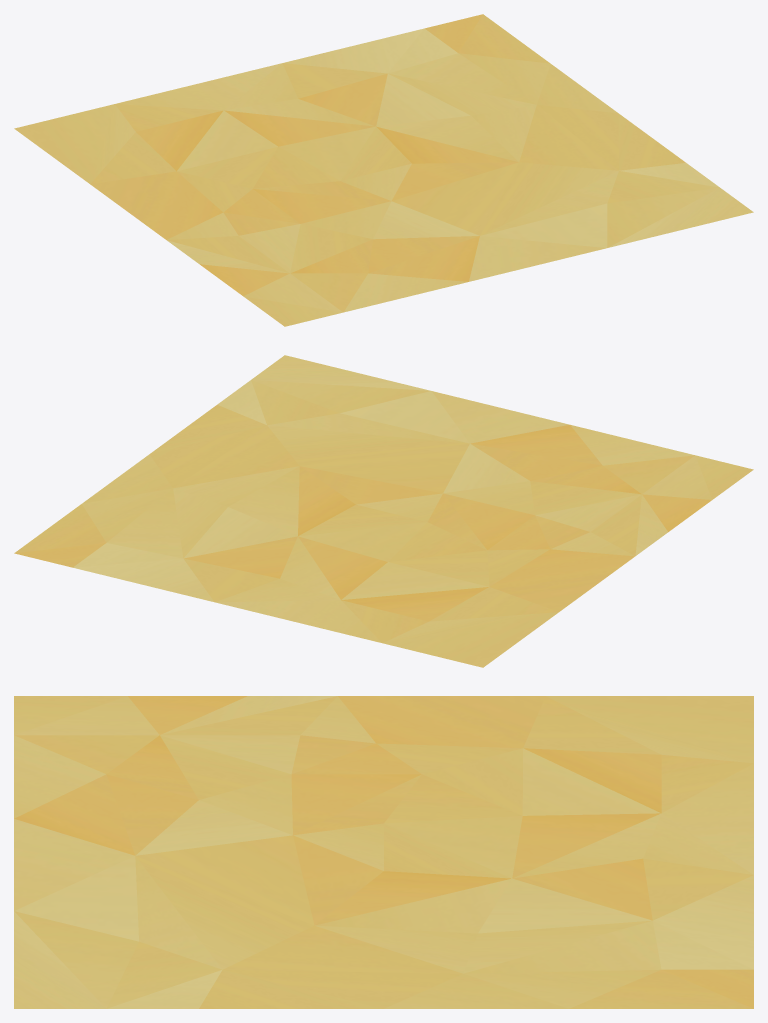
The model's file is GL-Terrain-part-10-LOD2.fbx.
The picture shows the model from 3 angles, top to bottom: view 1: azimuth 30°, elevation 25°; view 2: azimuth 150°, elevation 25°; view 3: azimuth 270°, elevation 25°; orthographic projection. The views are drawn at different scales.
Parts seen in each view (by area): view 1: GL_Terrain_part_10; view 2: GL_Terrain_part_10; view 3: GL_Terrain_part_10.
Part boxes in pixels (left/top/right/bottom): GL_Terrain_part_10: left=14, top=14, right=753, bottom=326; GL_Terrain_part_10: left=14, top=355, right=753, bottom=667; GL_Terrain_part_10: left=14, top=696, right=753, bottom=1008.
Size of the model in its own units: 6 by 0 by 6.
